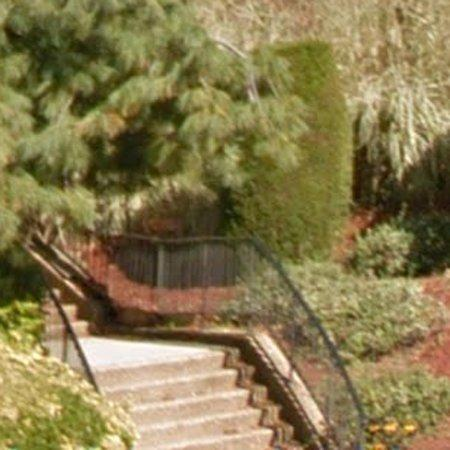stairs: (80, 337, 272, 450), (62, 303, 90, 338), (42, 297, 64, 341), (54, 289, 61, 300)
